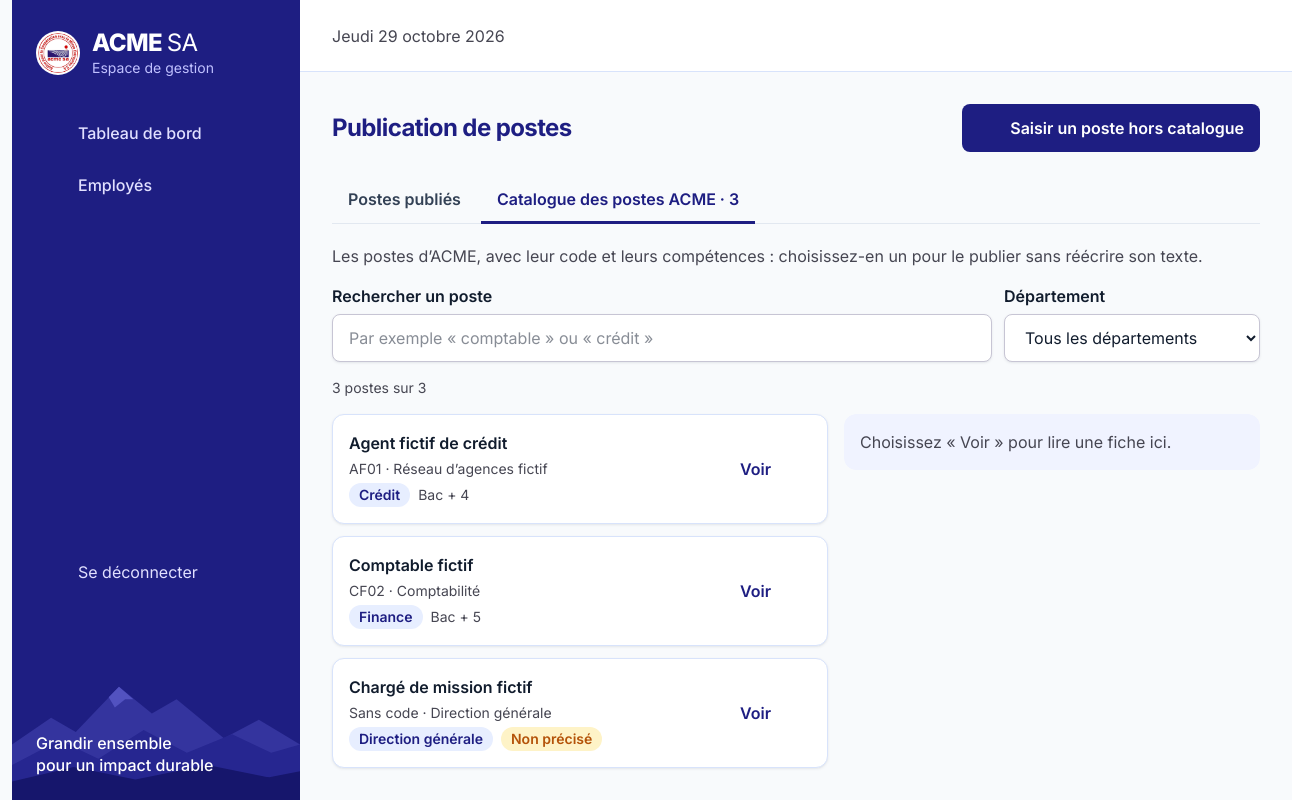
Test: US-119 CA-02 — rechercher, filtrer et lire une fiche › « Voir » ouvre la fiche en aperçu, avec ses rubriques
What coordinates should you click on to do the following:
click the button "Voir" in the row of "Bac + 5"
I would click on:
 (770, 591)
Its box is 728,569 -> 811,613.
(page scrolled)
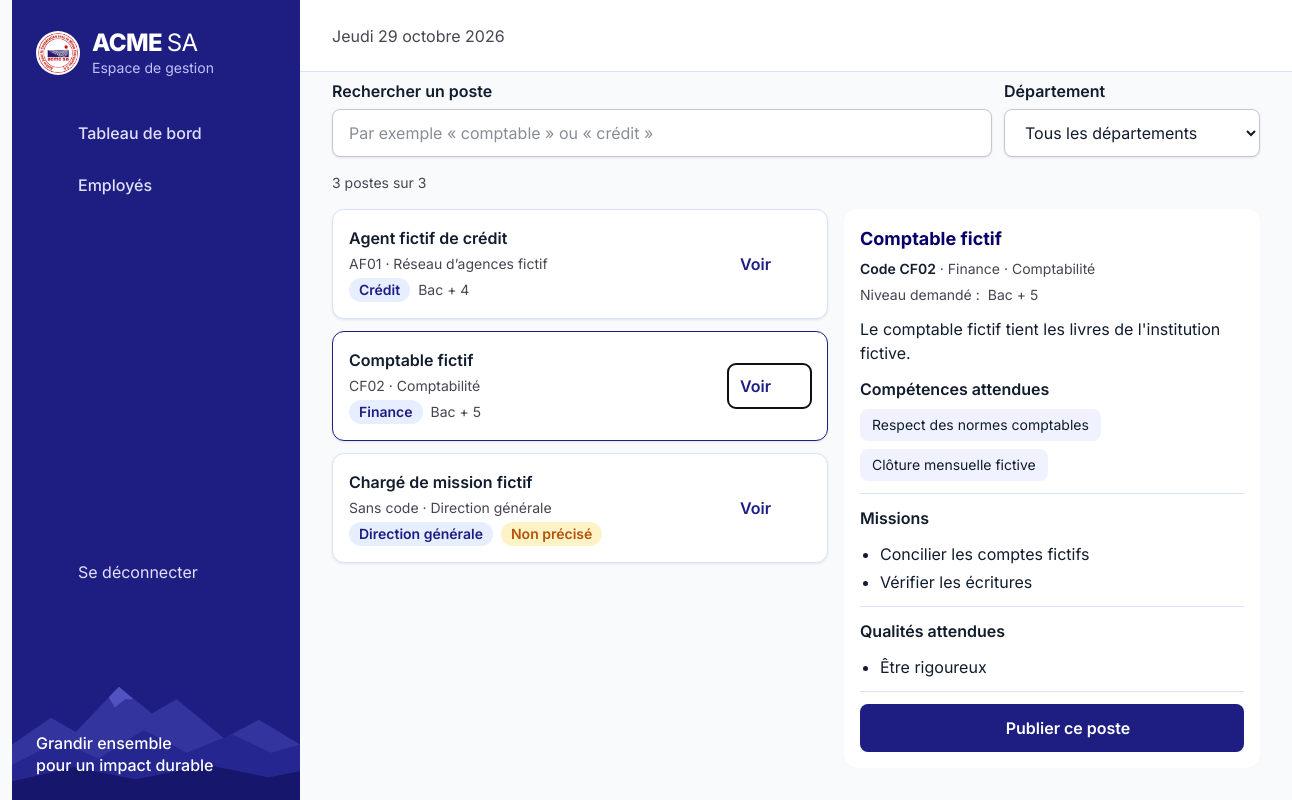
Expected: the text "Le comptable fictif tient les livres de l'institution fictive." is shown, 860,317 -> 1244,365
Expected: the heading "Missions" is shown, 860,504 -> 1244,532
Expected: the list item "Concilier les comptes fictifs" is shown, 880,544 -> 1090,564
